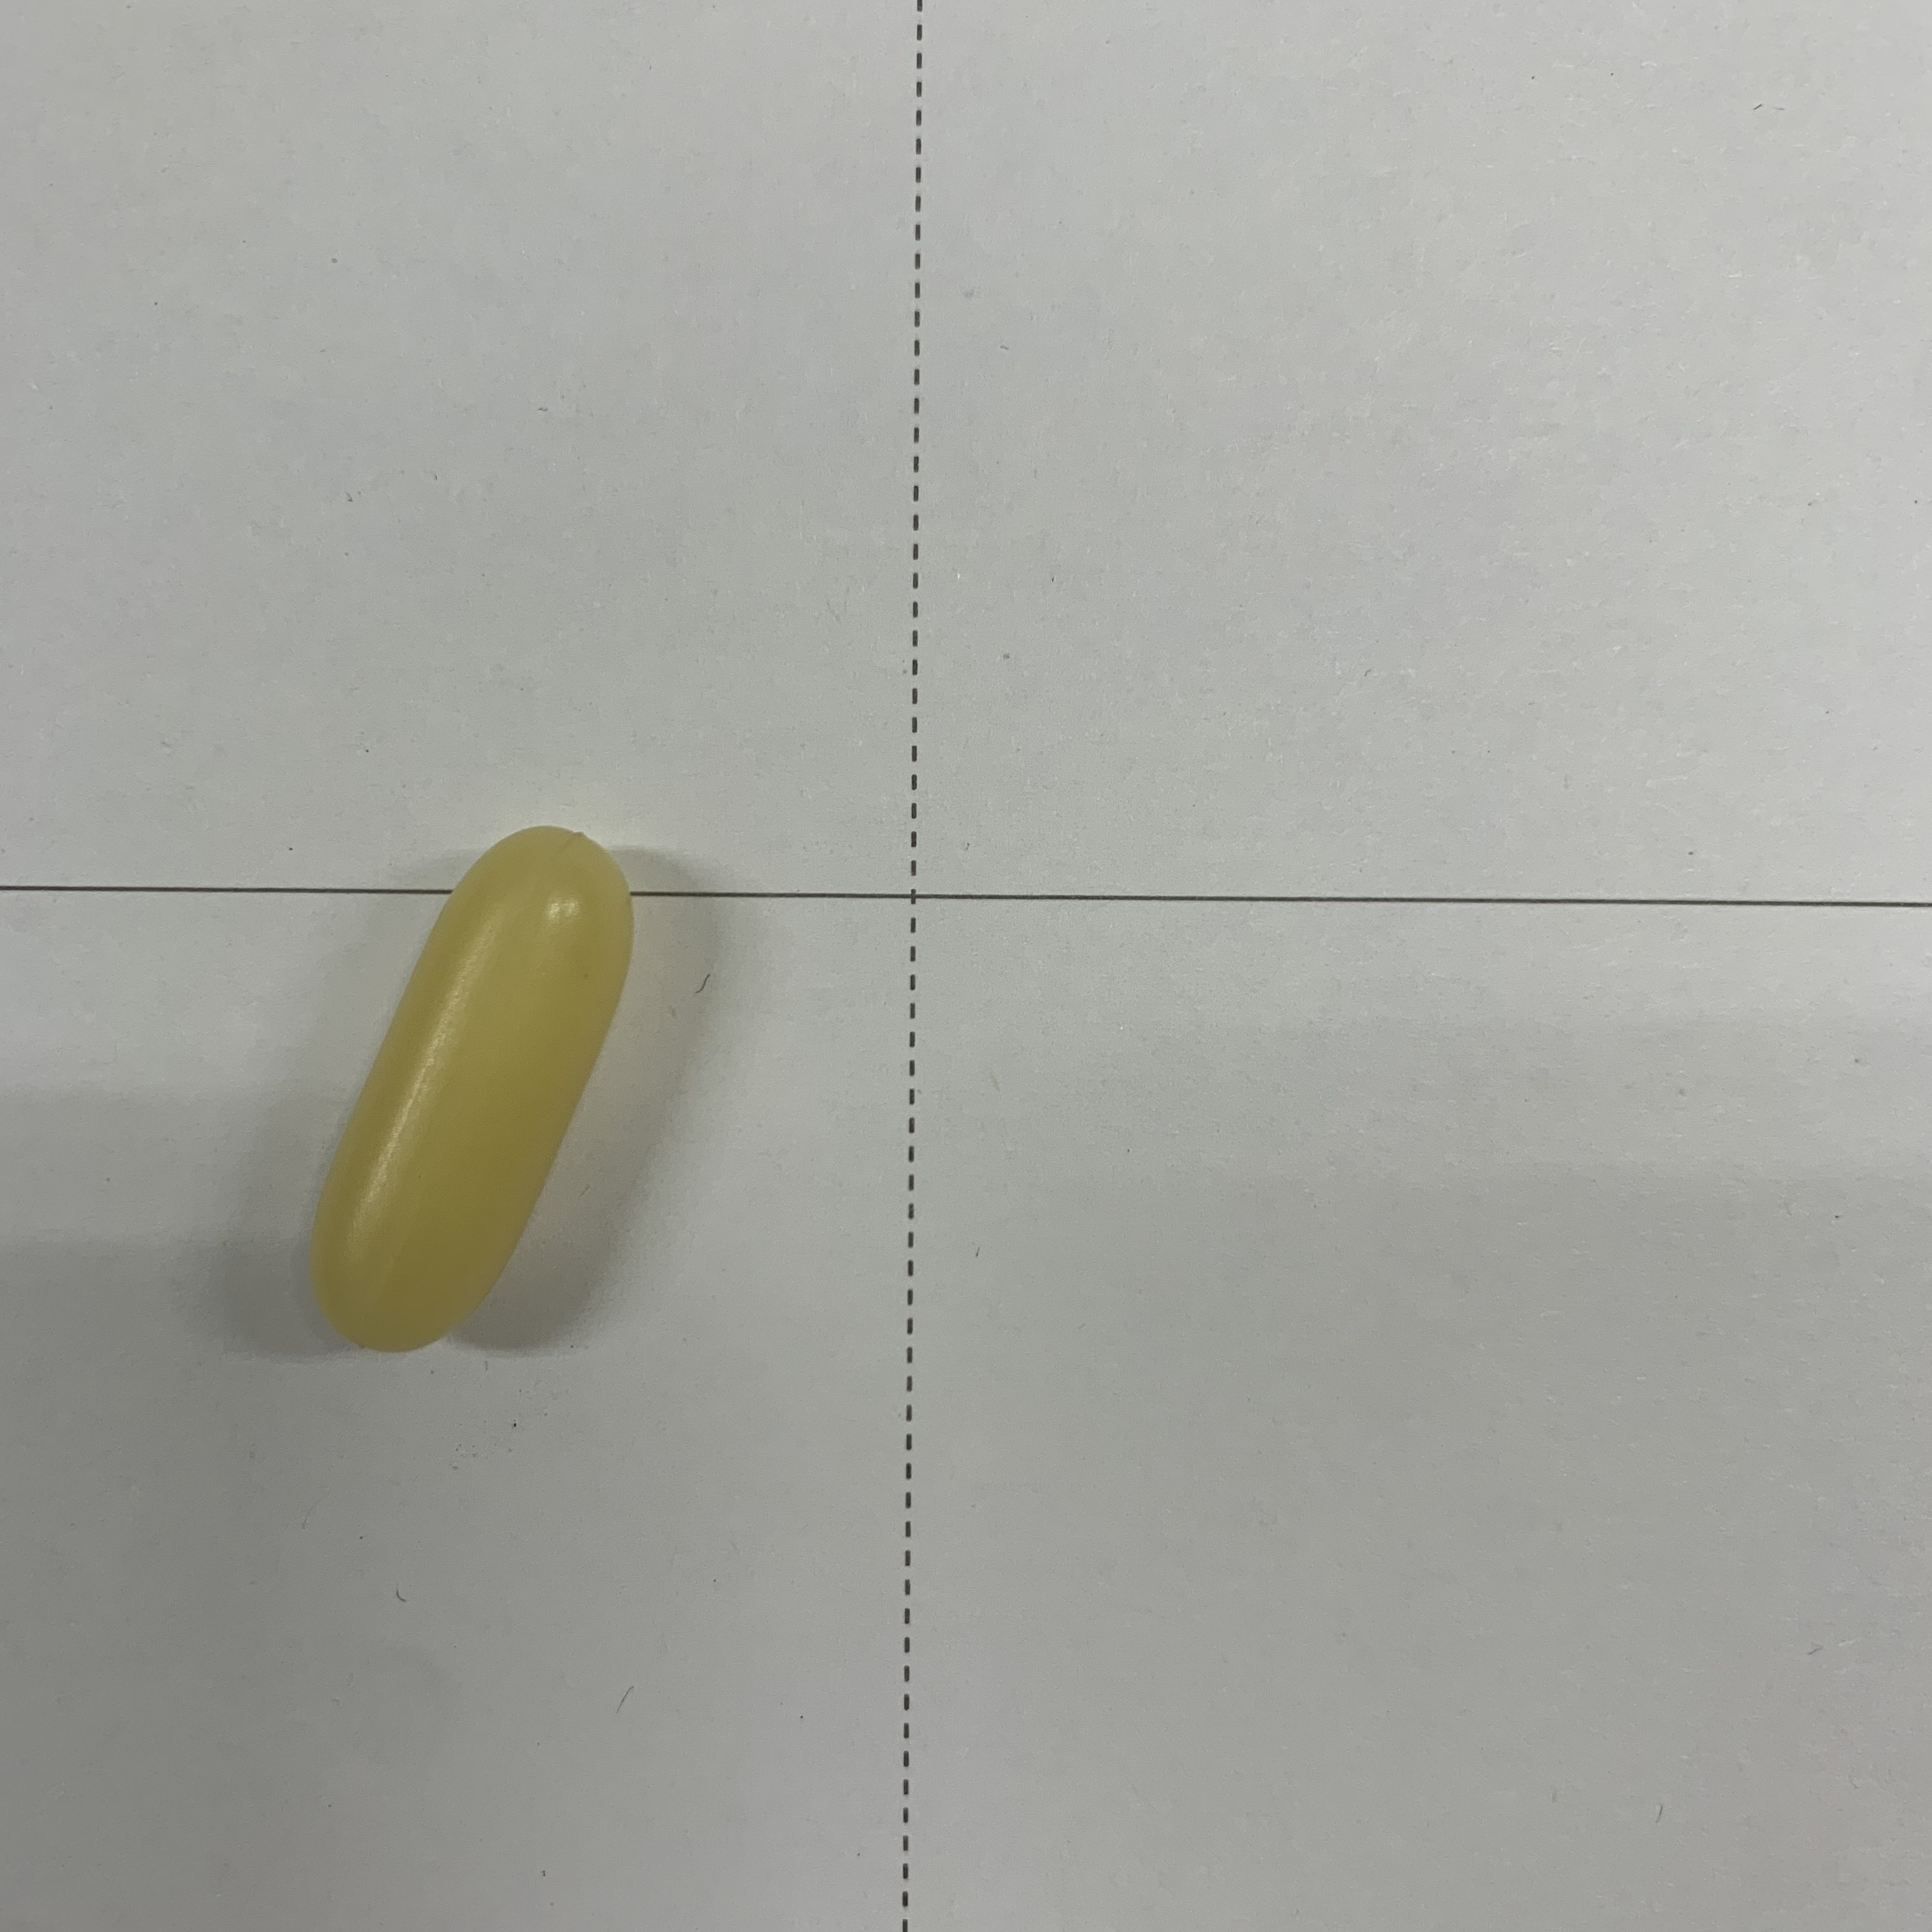rec_drug: (290, 812, 679, 1378)
